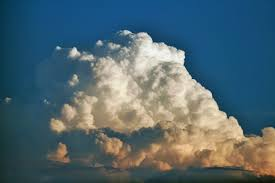Cumulus: (23, 21, 274, 176)
